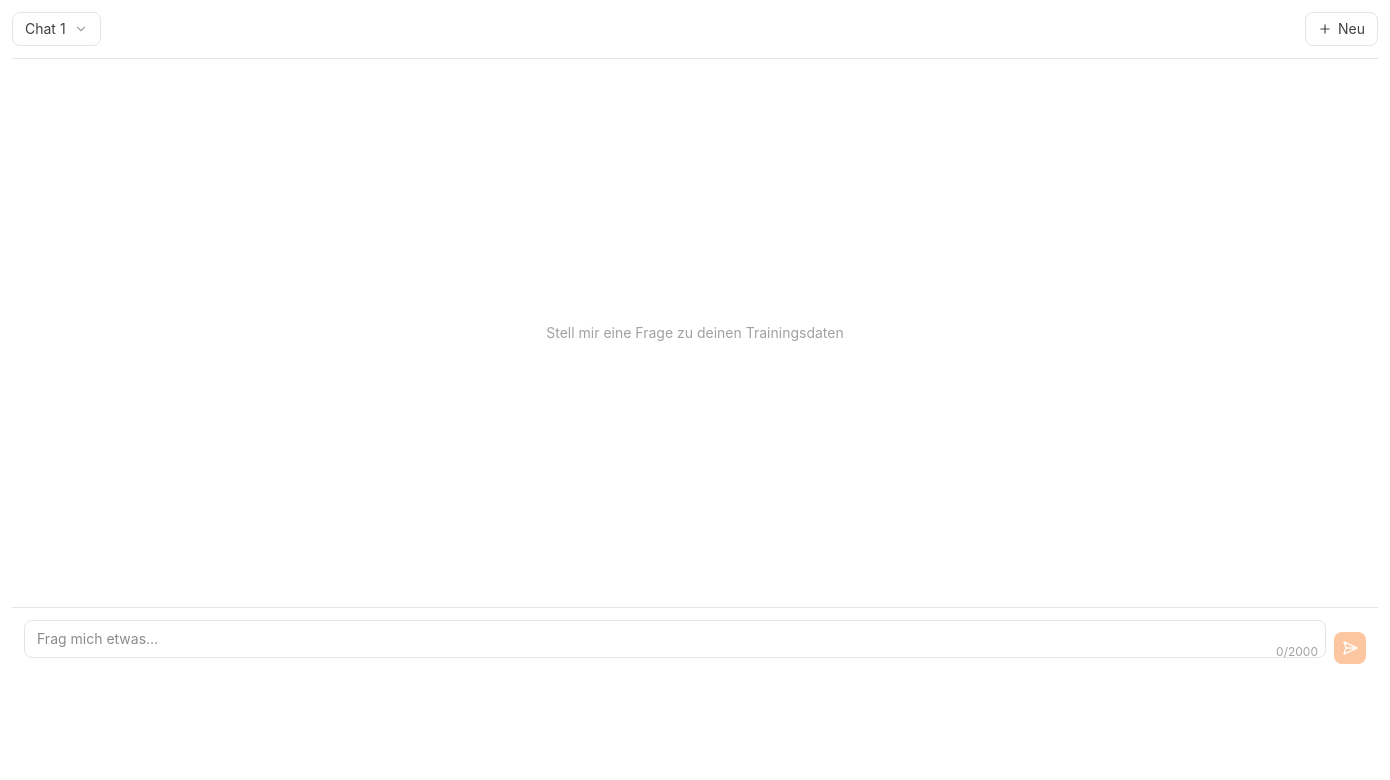
Test: ChatPage › shows tool-plan debug details only after expanding the summary
Type "When was my last swim?" into the text box with placeholder "Frag mich etwas…" at (675, 639), box left=24, top=620, right=1326, bottom=658
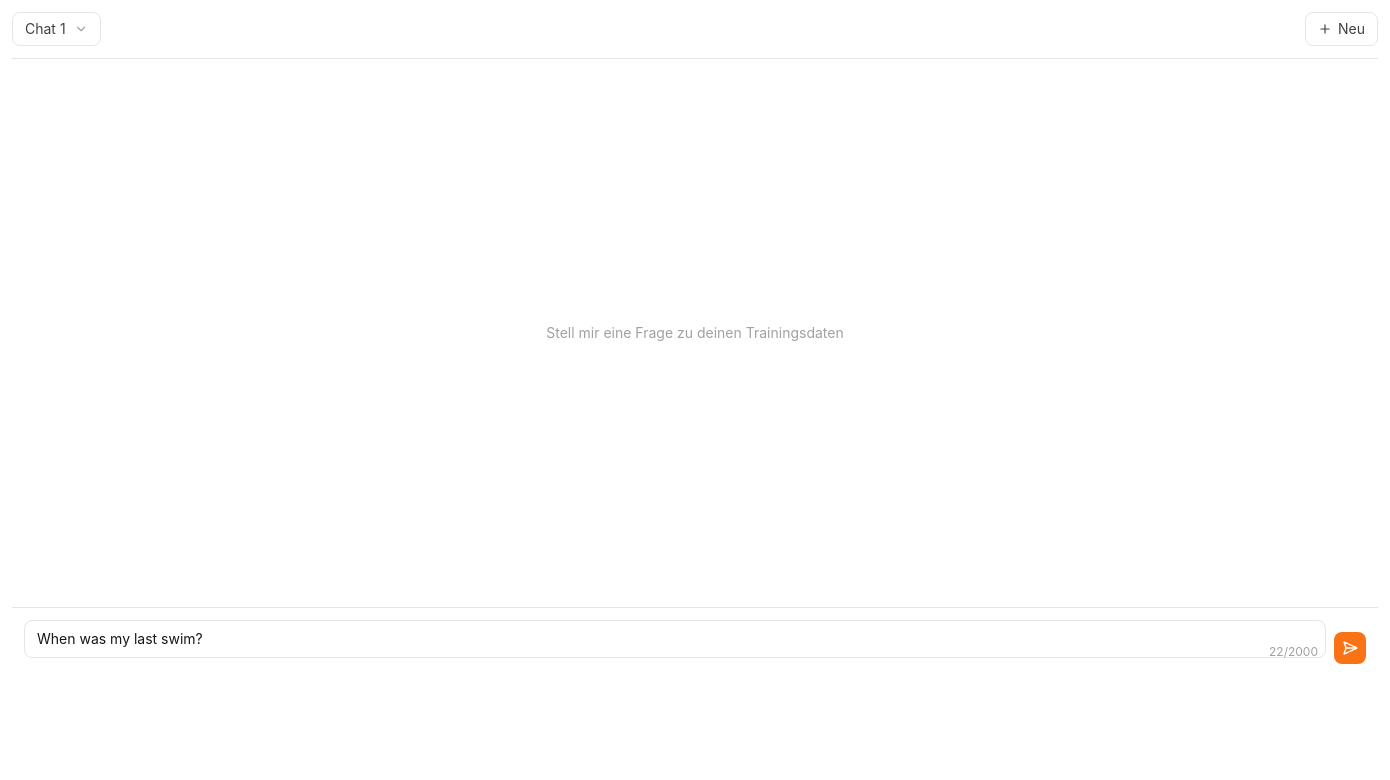
Press Enter in the text box with placeholder "Frag mich etwas…", box left=24, top=620, right=1326, bottom=658
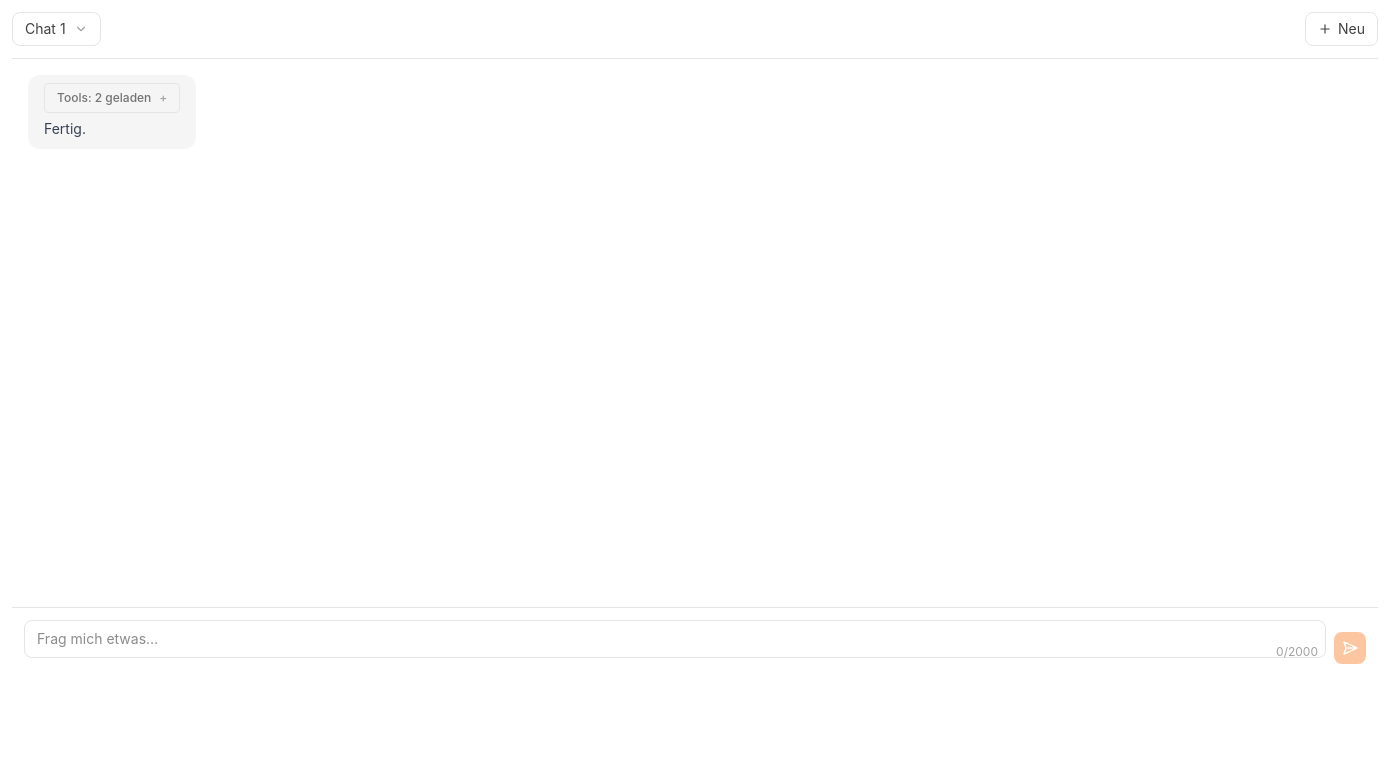
Expected: the text "read.activities.lookup" is not shown
Click the button "Tools: 2 geladen +" at (112, 98), box left=45, top=84, right=179, bottom=112
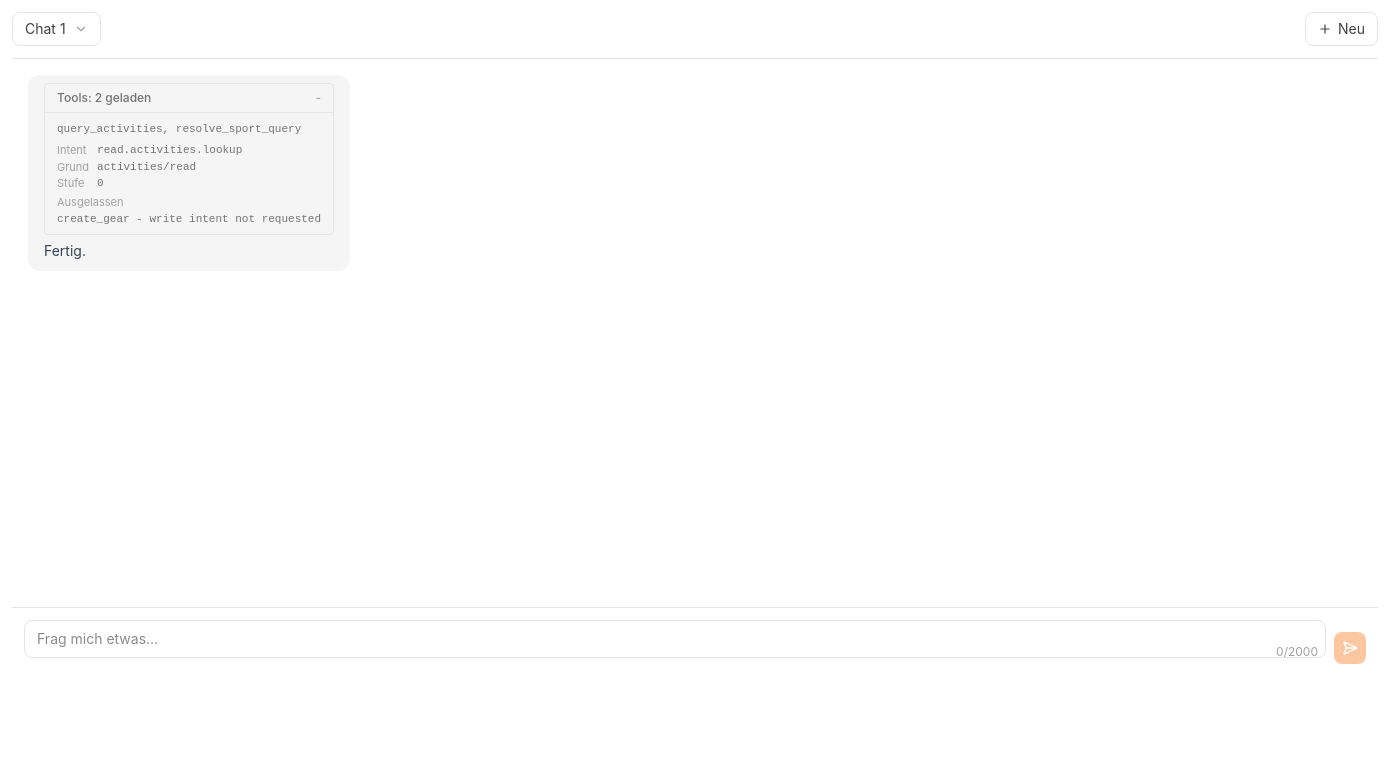
Expected: the text "read.activities.lookup" is shown, left=97, top=144, right=242, bottom=156
Expected: the text "create_gear - write intent not requested" is shown, left=57, top=212, right=321, bottom=226
